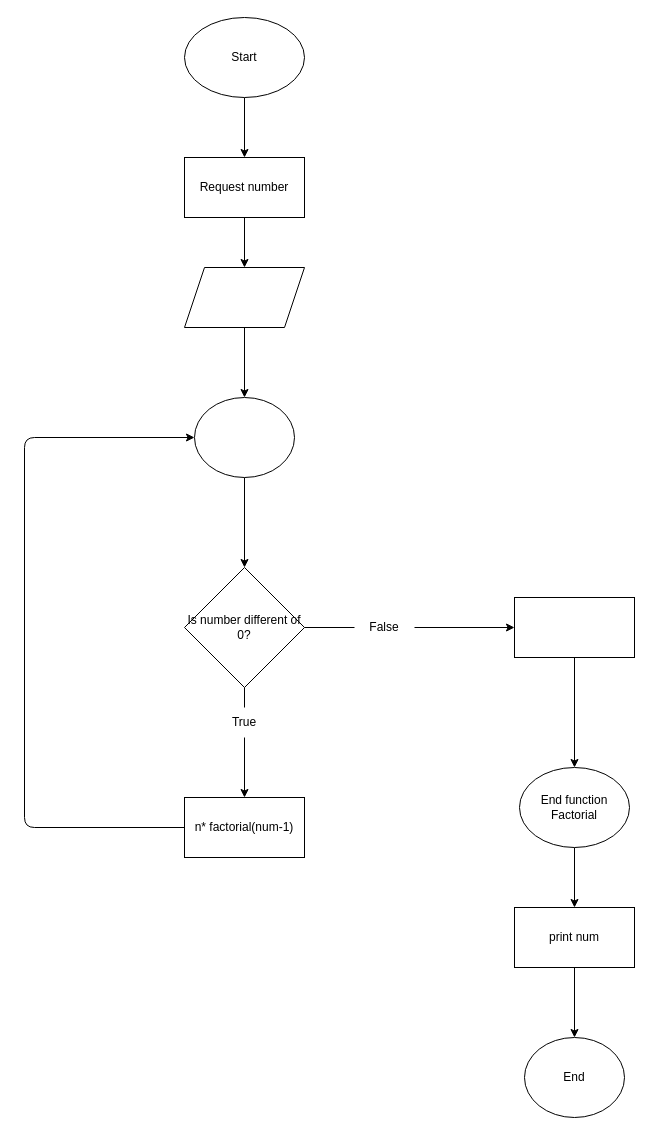
Image size: 652x1135. Some labels were removed from this diagram. The shapes that lost their labels are listed below. From the top down, each one's centre as x and y in pixels, then its label:
[244,297]: int: Number
[244,437]: Start function factorial
[574,627]: Return 1
